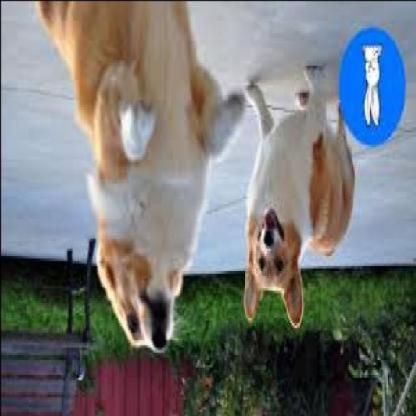dog: (36, 0, 225, 355), (241, 63, 356, 328)
